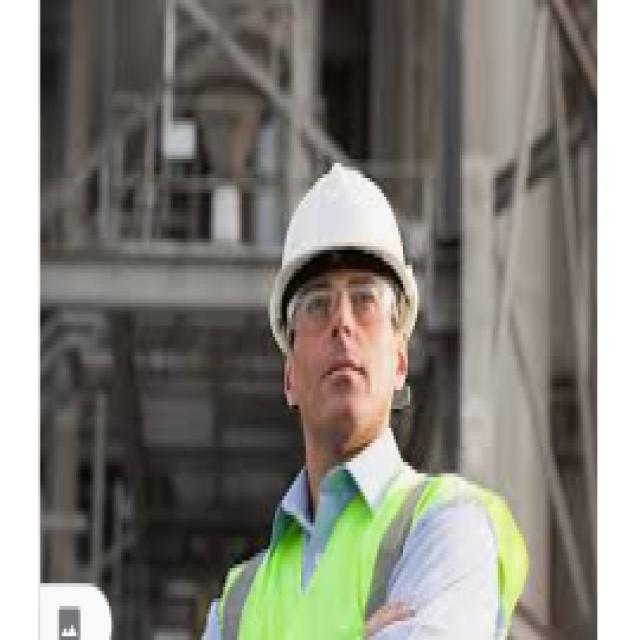glasses: (280, 275, 410, 350)
